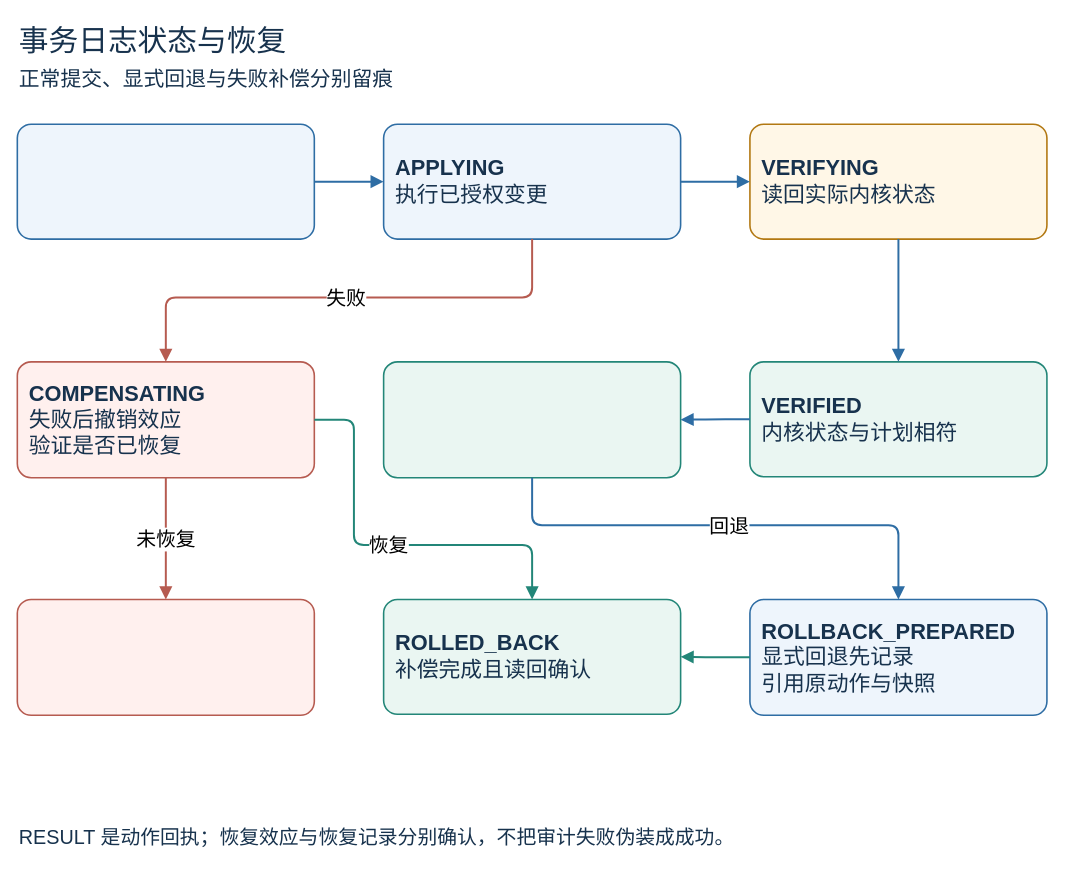
Some shapes in this 1065 by 880 pixel diagram are drawn without their labels. Each missing label, with the box of its shape:
COMMITTED 验证通过并提交 世代号随成功变更推进: (382, 361, 681, 478)
PREPARED 快照与意图先落盘: (16, 123, 315, 239)
RECOVERY_REQUIRED 恢复失败或存在冲突 保留上下文并拒绝新建: (16, 598, 315, 716)
